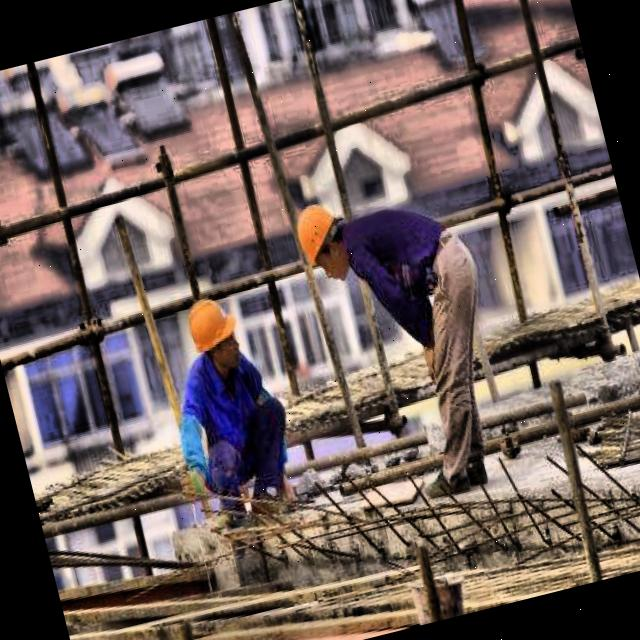helmet: (282, 182, 368, 294), (175, 282, 255, 386)
